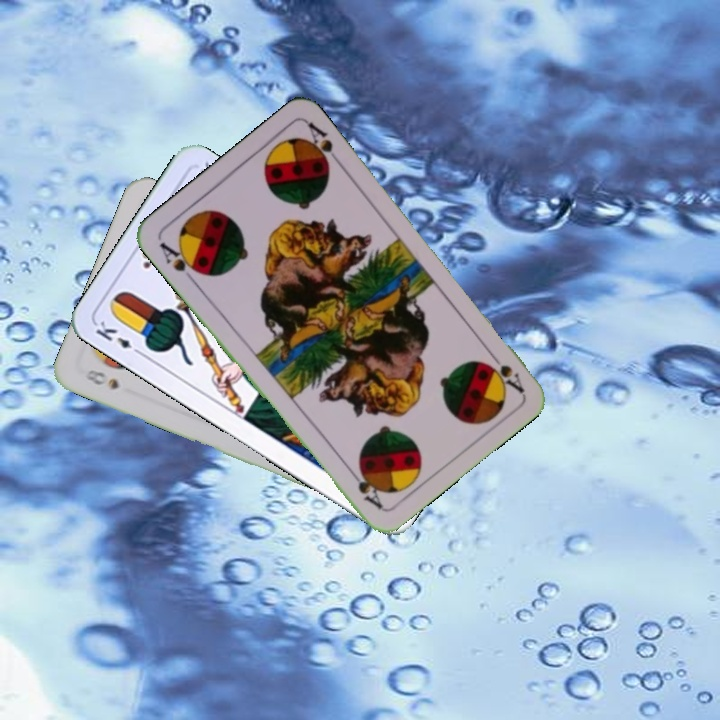EK: (91, 316, 146, 359)
S8: (81, 365, 122, 392)
SA: (155, 238, 206, 287), (483, 345, 527, 395)
